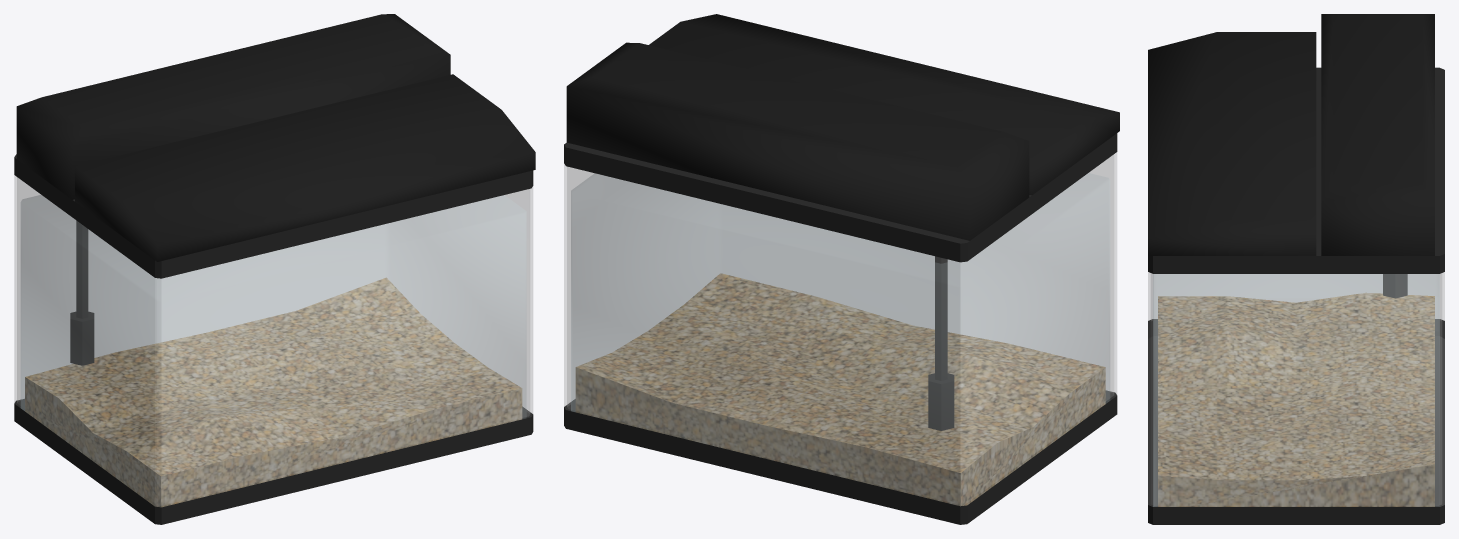
File: aquarium.glb
3 views of the same model, side by side, from view 1: azimuth 30°, elevation 25°; view 2: azimuth 150°, elevation 25°; view 3: azimuth 270°, elevation 25° (orthographic). The views are drawn at different scales.
Parts seen in each view (by area): view 1: Cube, Water, Cube.001, Gravel, Cylinder; view 2: Cube, Water, Cube.001, Gravel, Cylinder; view 3: Cube, Water, Cube.001, Gravel, Cylinder.
Part boxes in pixels (left/top/right/bottom): Cube: left=14, top=154, right=533, bottom=524; Water: left=21, top=195, right=526, bottom=506; Cube.001: left=16, top=14, right=535, bottom=261; Gravel: left=25, top=277, right=522, bottom=507; Cylinder: left=70, top=220, right=94, bottom=365; Cube: left=564, top=133, right=1117, bottom=524; Water: left=571, top=173, right=1109, bottom=505; Cube.001: left=566, top=14, right=1119, bottom=240; Gravel: left=575, top=273, right=1105, bottom=506; Cylinder: left=928, top=256, right=954, bottom=430; Cube: left=1148, top=67, right=1444, bottom=524; Water: left=1153, top=274, right=1439, bottom=506; Cube.001: left=1148, top=14, right=1434, bottom=255; Gravel: left=1158, top=292, right=1434, bottom=506; Cylinder: left=1383, top=274, right=1407, bottom=298.
Bounding box in the file's own units: 0.45 × 0.37 × 0.3.
Materials: 5 (1 with a texture image).
